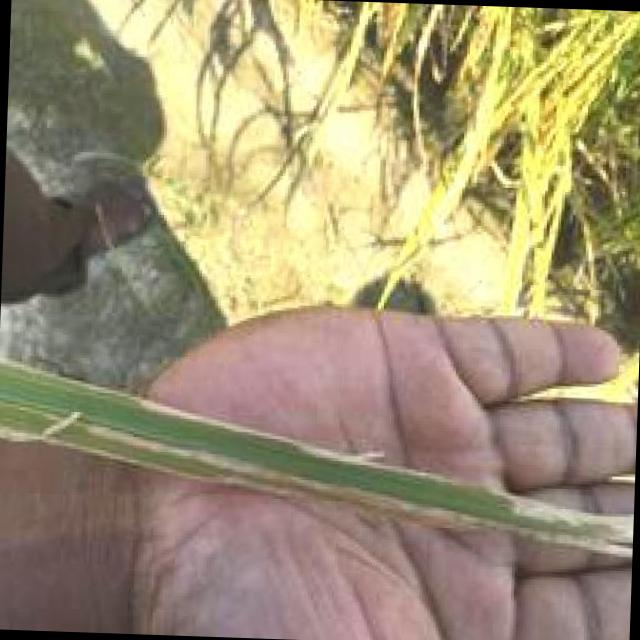Rice_Bacterial_Blight: (6, 355, 627, 568)
